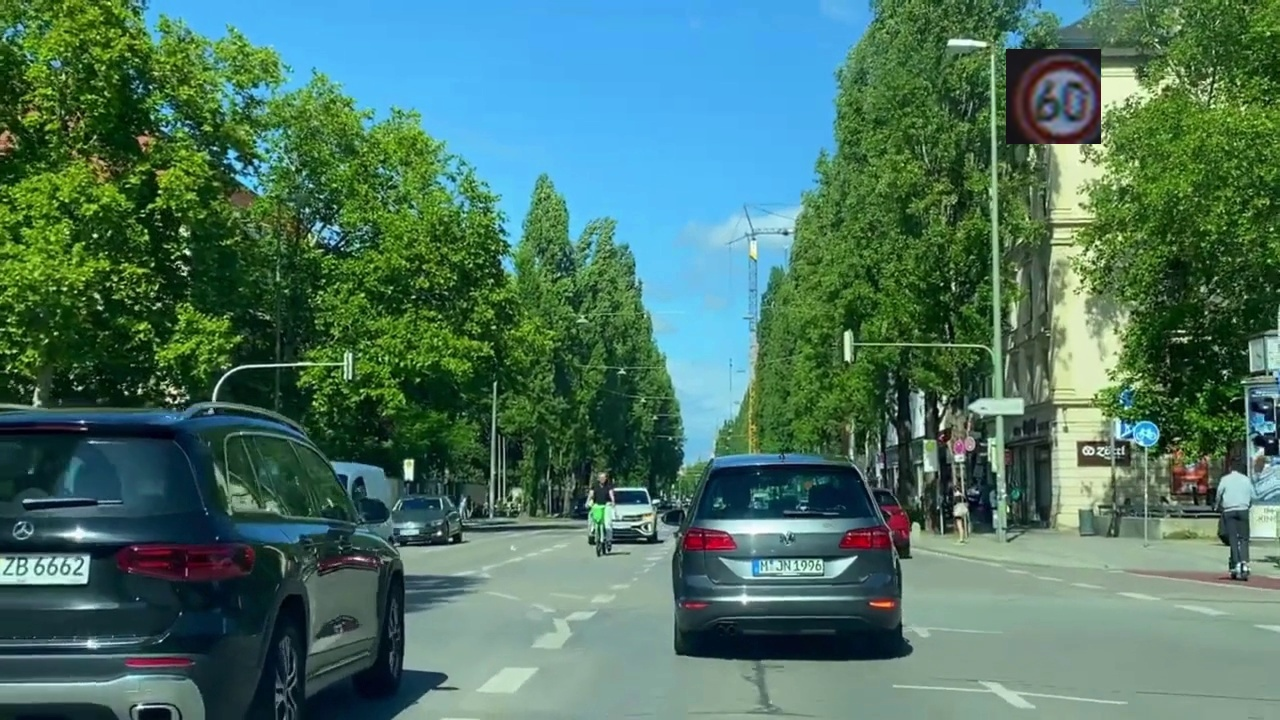Speed 60: (1006, 49, 1101, 144)
